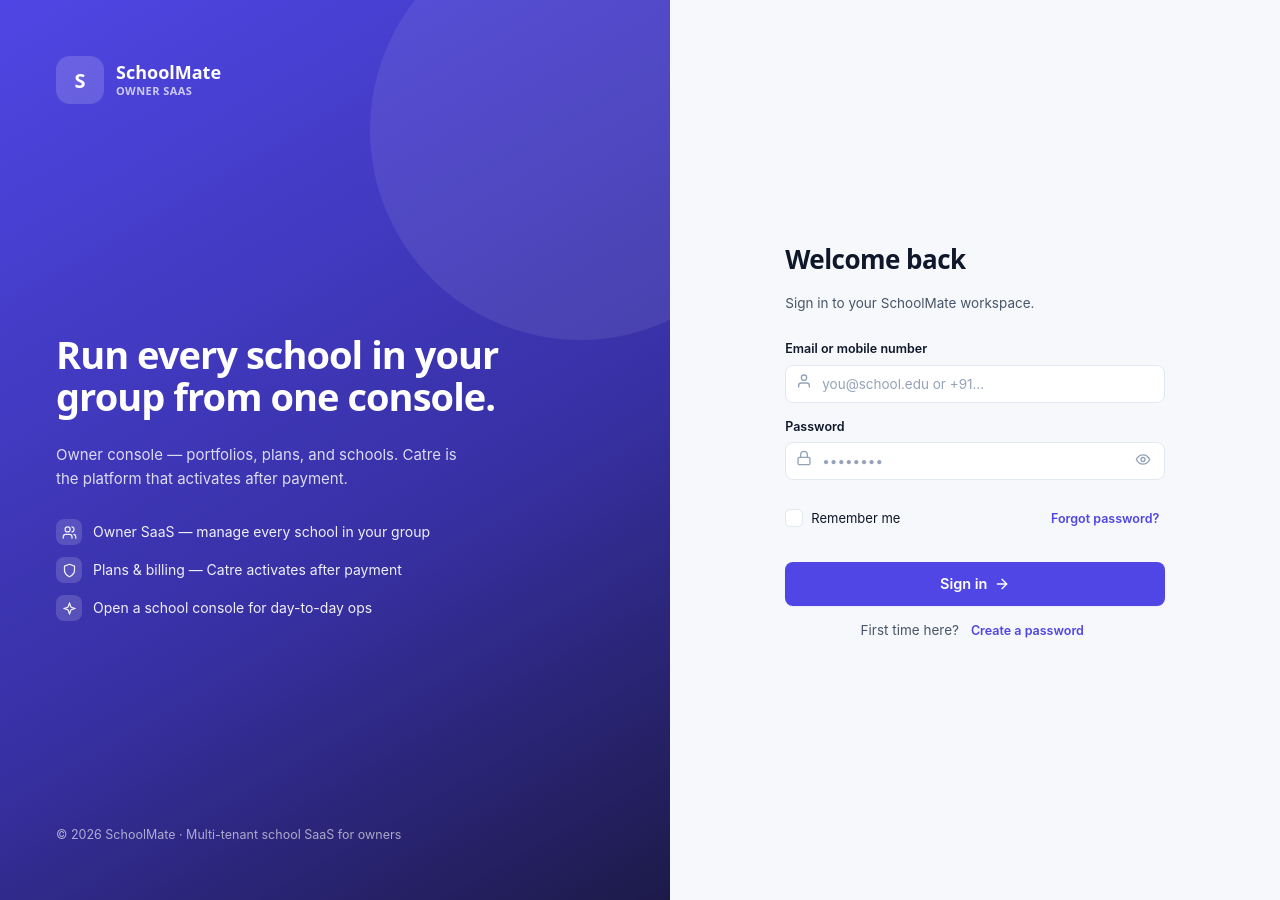
it: LoginScreen › shows the API error message when password sign-in fails
Click the button "Sign in" at coordinates (975, 584), box [785,562,1165,606]
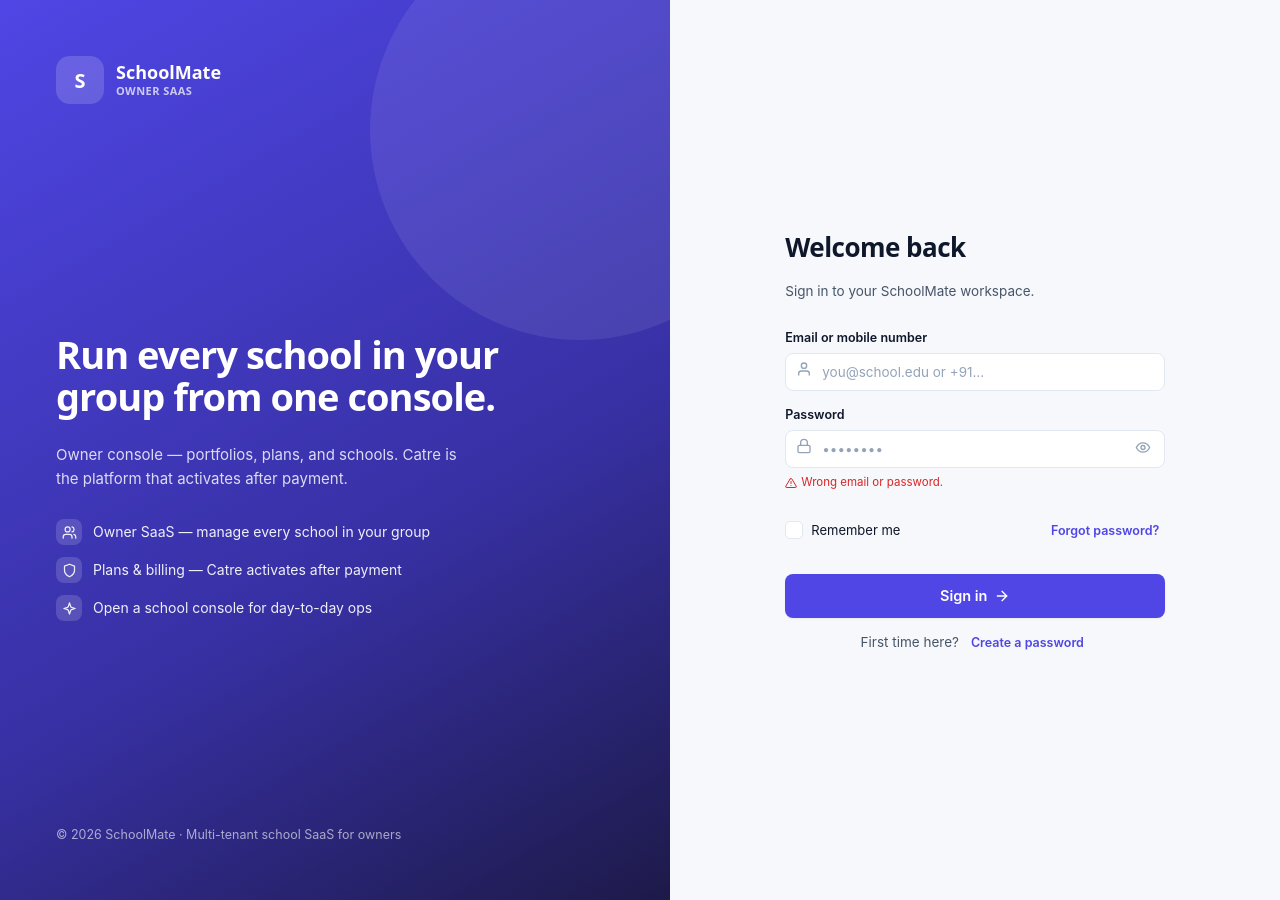
Result: the text "Wrong email or password." is shown at [785,475,943,489]
